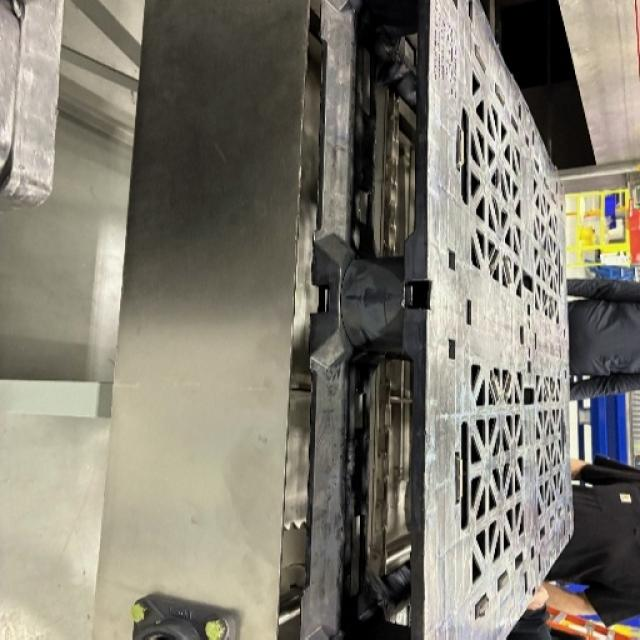igps: (284, 0, 586, 640)
